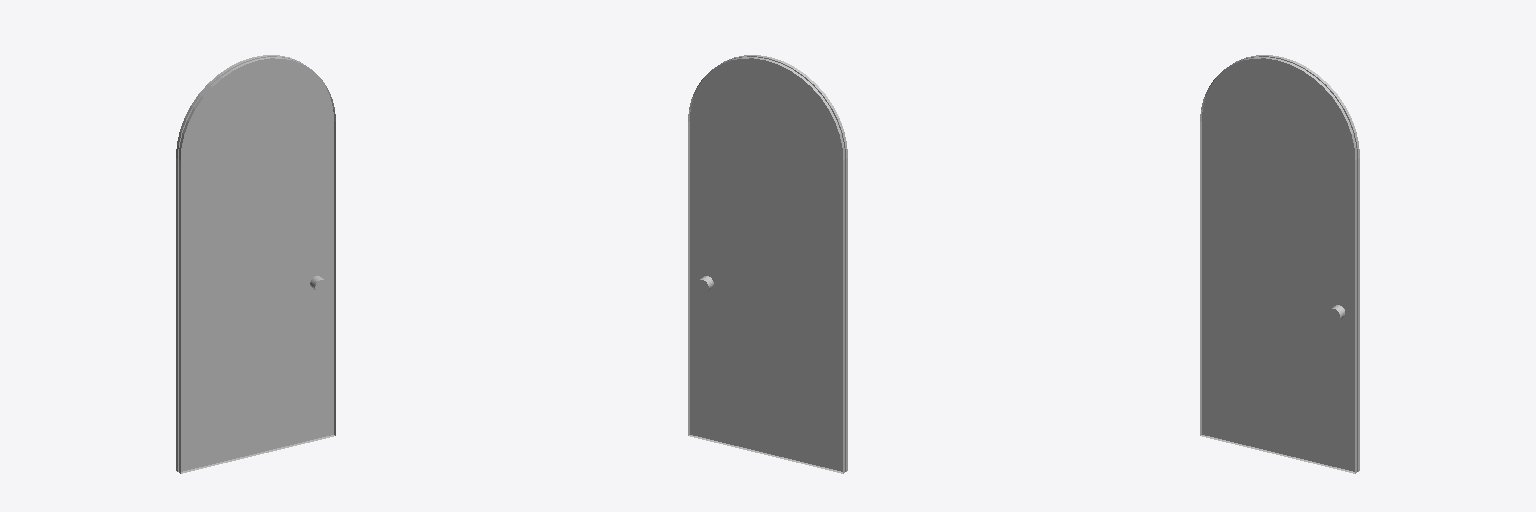
The model's file is PUERTA_CASA.obj.
3 renders of one model, left to right at view 1: azimuth 30°, elevation 25°; view 2: azimuth 150°, elevation 25°; view 3: azimuth 330°, elevation 25°, orthographic.
Parts seen in each view (by area): view 1: Puerta01.001; view 2: Puerta01.001; view 3: Puerta01.001.
Part boxes in pixels (x1,y1,x2,y2): Puerta01.001: (176, 55, 335, 473); Puerta01.001: (688, 55, 847, 473); Puerta01.001: (1200, 55, 1359, 473).
Bounding box in the file's own units: 0.9366 × 2.27 × 0.1174.